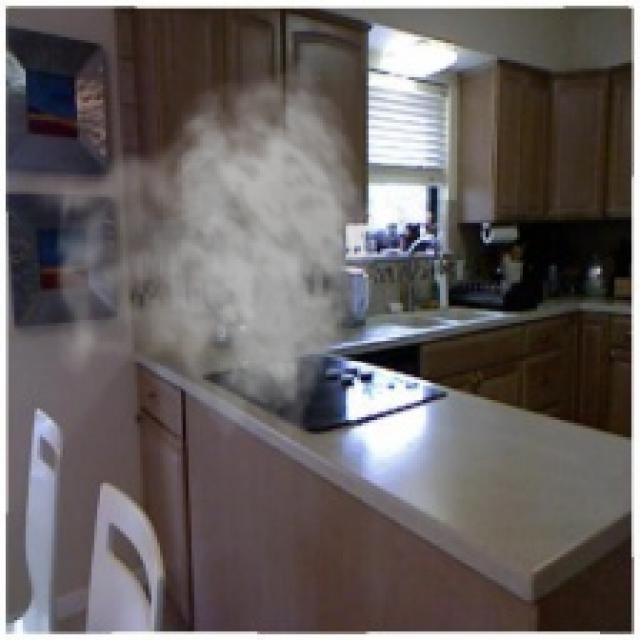smoke: (23, 60, 377, 446)
